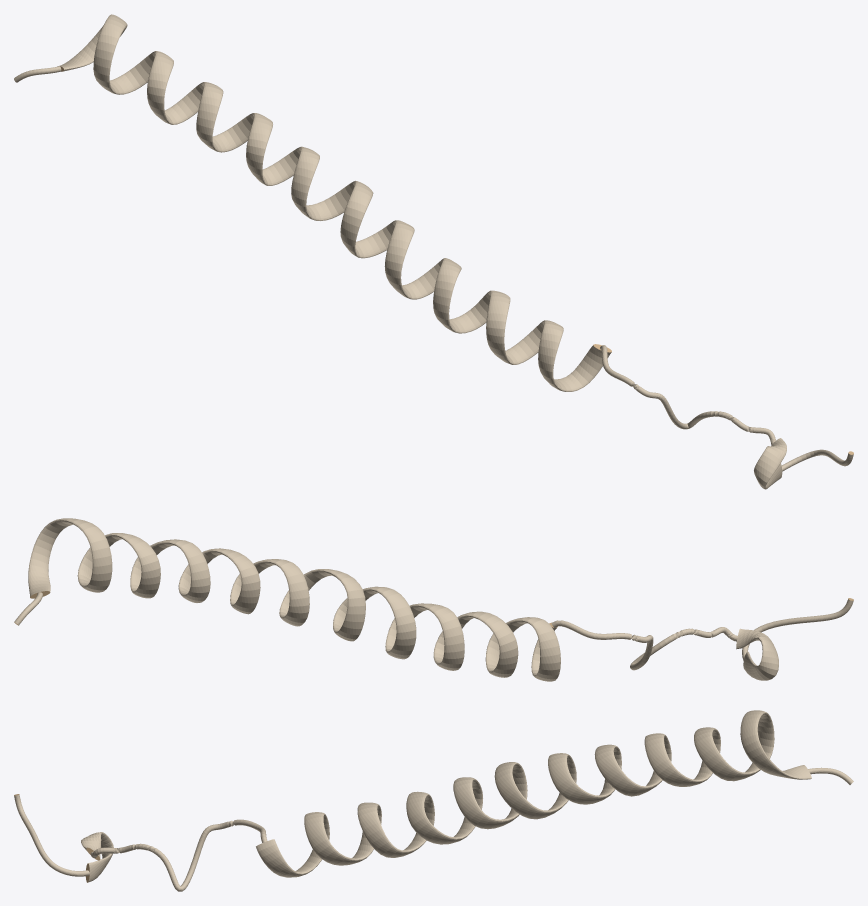
Rendered from SheetHelixfCoil.dae.
3 renders of one model, top to bottom at view 1: azimuth 90°, elevation 25°; view 2: azimuth 150°, elevation 25°; view 3: azimuth 270°, elevation 25°, orthographic. The views are drawn at different scales.
Parts seen in each view (by area): view 1: Shape_IndexedTriangleStripSet_055; view 2: Shape_IndexedTriangleStripSet_055; view 3: Shape_IndexedTriangleStripSet_055.
Boxes of the visible parts, x1,y1,x2,y2 form: Shape_IndexedTriangleStripSet_055: (14,14,853,489); Shape_IndexedTriangleStripSet_055: (14,518,853,681); Shape_IndexedTriangleStripSet_055: (14,710,853,891).
Size of the model in its own units: 40.39 by 73.79 by 30.51.
